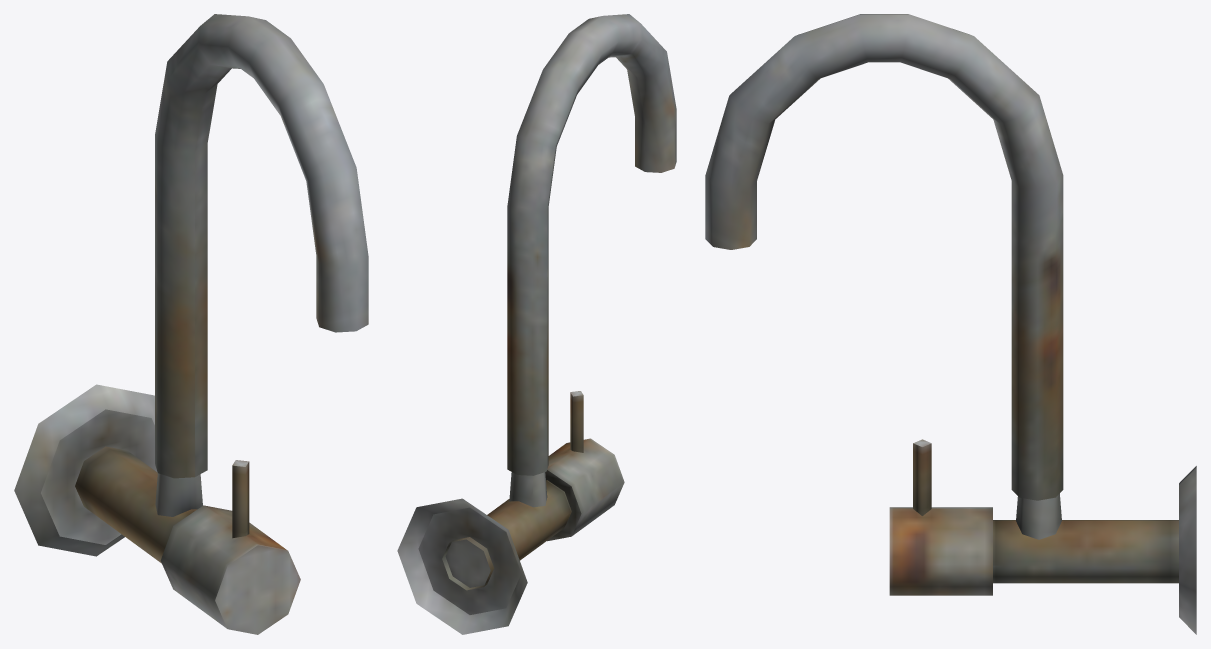
File: SinkTap.FBX
The picture shows the model from 3 angles, left to right: view 1: azimuth 30°, elevation 25°; view 2: azimuth 150°, elevation 25°; view 3: azimuth 270°, elevation 25°; orthographic projection. The views are drawn at different scales.
Parts seen in each view (by area): view 1: z; view 2: z; view 3: z.
Boxes of the visible parts, x1=… form: z: x1=14, y1=14, x2=368, y2=634; z: x1=397, y1=14, x2=676, y2=634; z: x1=705, y1=14, x2=1196, y2=634.
Size of the model in its own units: 10.27 by 38.8 by 27.96.
